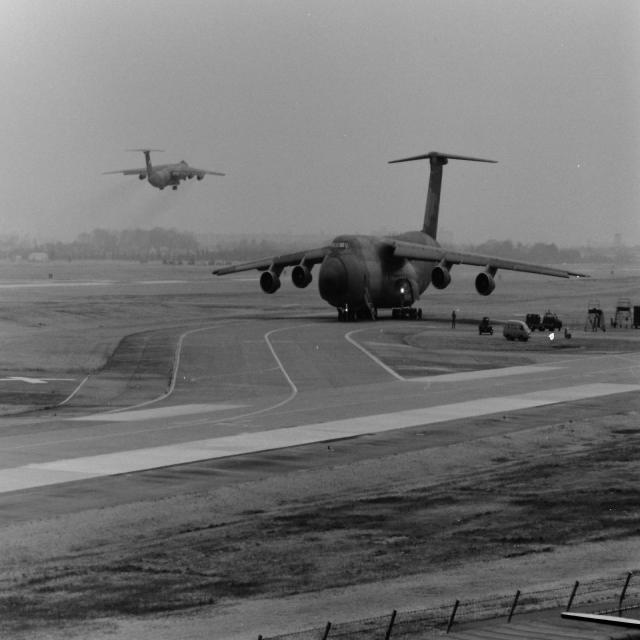MIL_Plane: (211, 147, 591, 317), (101, 148, 226, 191)
